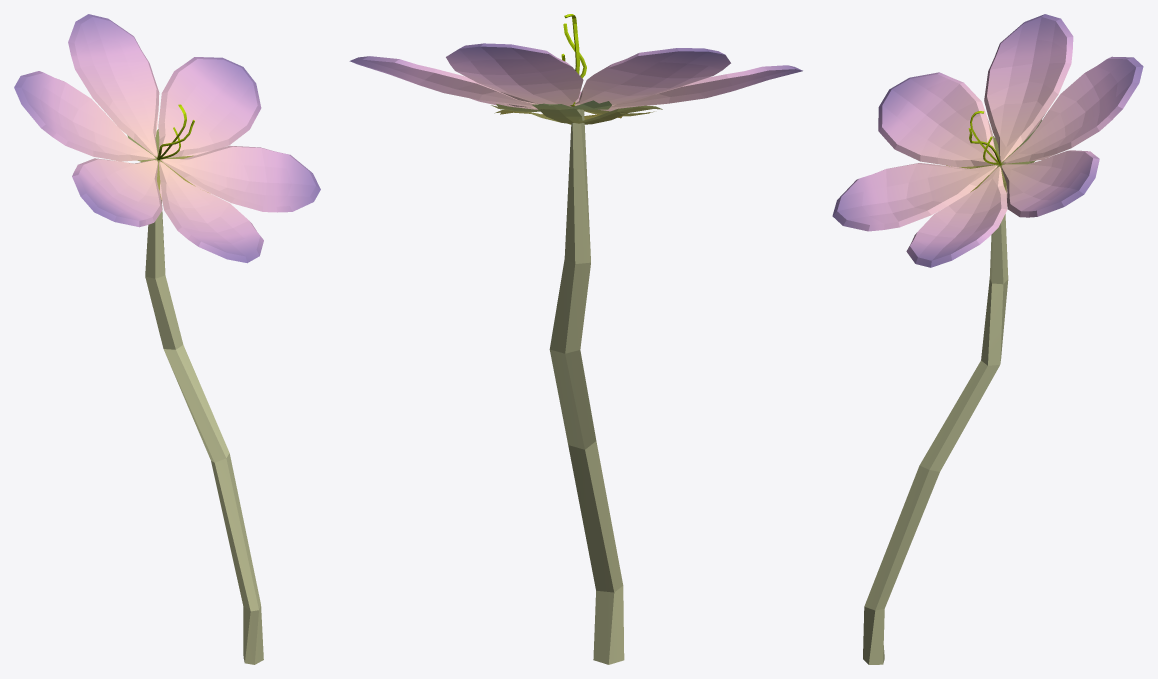
Rendered from SchizostylisCoccinea_Lilac.fbx.
3 views of the same model, side by side, from view 1: azimuth 30°, elevation 25°; view 2: azimuth 150°, elevation 25°; view 3: azimuth 270°, elevation 25° (orthographic). The views are drawn at different scales.
Parts seen in each view (by area): view 1: SchizostylisCoccinea_Lilac; view 2: SchizostylisCoccinea_Lilac; view 3: SchizostylisCoccinea_Lilac.
Boxes of the visible parts, x1,y1,x2,y2 form: SchizostylisCoccinea_Lilac: (14, 14, 320, 664); SchizostylisCoccinea_Lilac: (349, 14, 802, 664); SchizostylisCoccinea_Lilac: (832, 14, 1143, 664).
Size of the model in its own units: 20.78 by 43.24 by 21.12.
